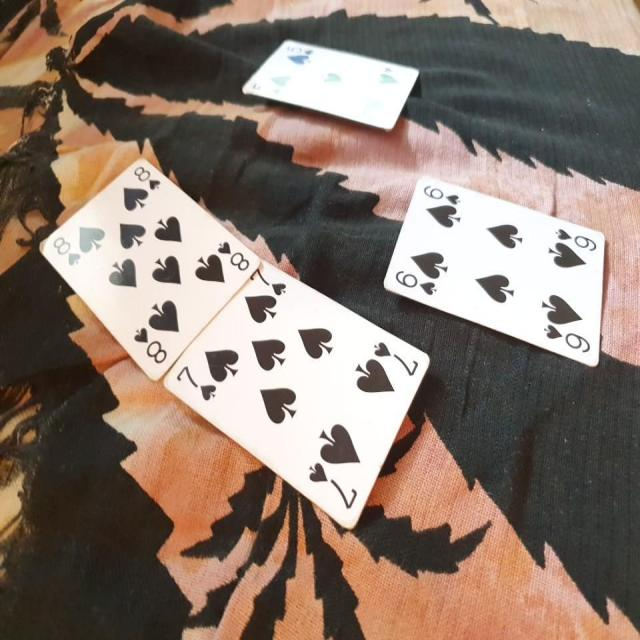5 Spades: (232, 29, 432, 152)
6 Spades: (382, 162, 616, 374)
7 Spades: (156, 262, 436, 548)
8 Spades: (34, 147, 258, 384)
